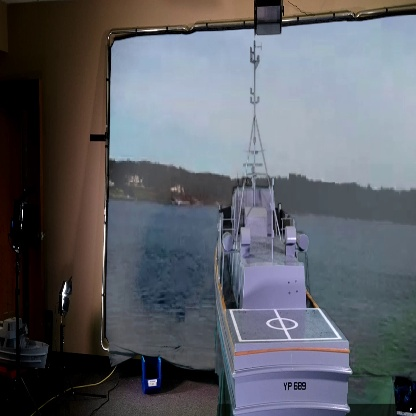YP689: (213, 54, 356, 416)
